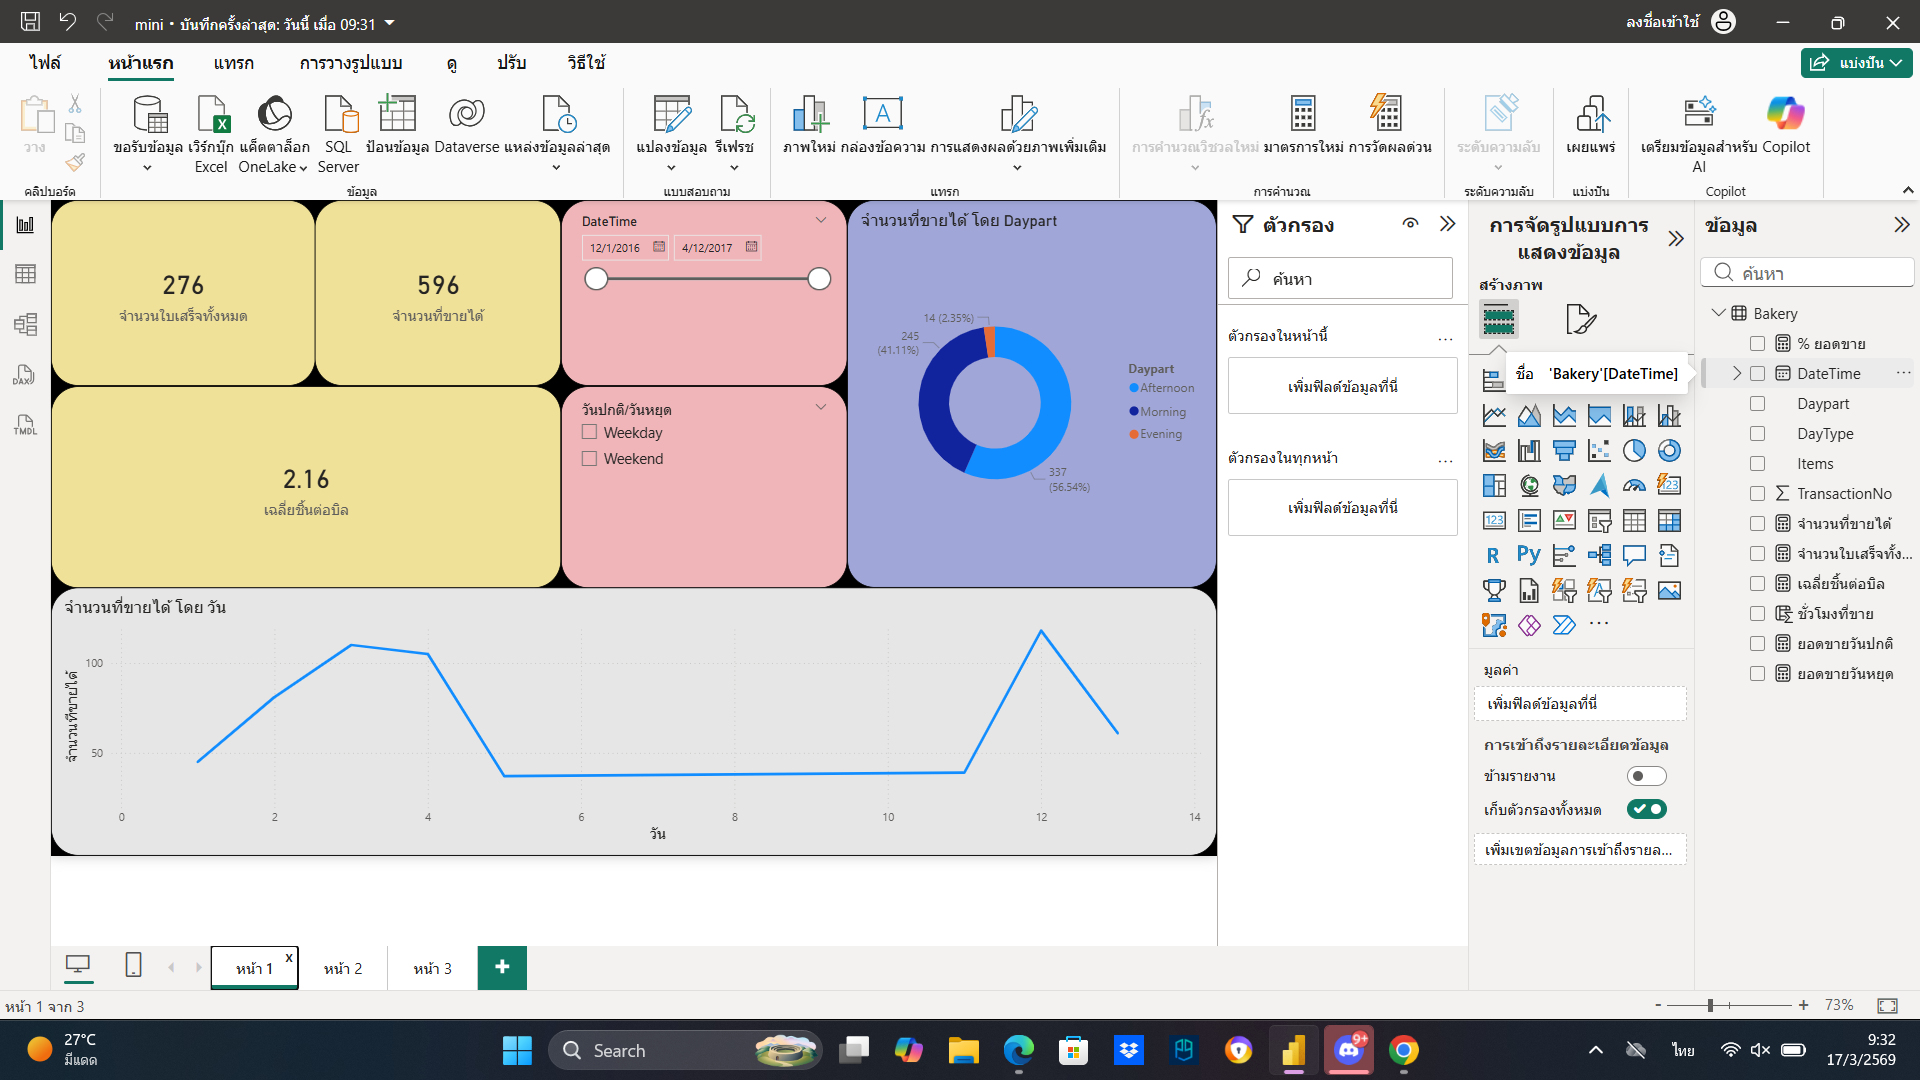

The dashboard page shown, as its layout file describes it:
{"tool":"powerbi","page":{"name":"หน้า 1","canvas":[1280,720],"ordinal":0},"visuals":[{"type":"slicer","fields":{"Values":["Bakery.DayType"]},"box":[560,204.3,314.3,221.4],"z":0},{"type":"slicer","fields":{"Values":["Bakery.DateTime"]},"box":[560,0,314.3,204.3],"z":1000},{"type":"card","fields":{"Values":["Bakery.จำนวนใบเสร็จทั้งหมด"]},"box":[0,0,290,204.3],"z":2000},{"type":"card","fields":{"Values":["Bakery.จำนวนที่ขายได้"]},"box":[290,0,270,204.3],"z":3000},{"type":"donutChart","fields":{"Category":["Bakery.Daypart"],"Y":["Bakery.จำนวนที่ขายได้"]},"box":[874.3,0,405.7,425.7],"z":4000},{"type":"card","fields":{"Values":["Bakery.เฉลี่ยชิ้นต่อบิล"]},"box":[0,204.3,560,221.4],"z":5000},{"type":"lineChart","fields":{"Category":["Bakery.DateTime.ตัวแปร.ลำดับชั้นวันที่.ปี","Bakery.DateTime.ตัวแปร.ลำดับชั้นวันที่.ไตรมาส","Bakery.DateTime.ตัวแปร.ลำดับชั้นวันที่.เดือน","Bakery.DateTime.ตัวแปร.ลำดับชั้นวันที่.วัน"],"Y":["Bakery.จำนวนที่ขายได้"]},"box":[0,425.7,1280,294.3],"z":6000}]}

Visuals, with their boxes on the page's 1280x720 design canvas (x1, y1, x2, y2). These are canvas units, not pixel positions in the 1920x1080 screenshot, which may show the page scaled, cropped or inside an application window:
slicer - Bakery.DayType: x1=560 y1=204 x2=874 y2=426
slicer - Bakery.DateTime: x1=560 y1=0 x2=874 y2=204
card - Bakery.จำนวนใบเสร็จทั้งหมด: x1=0 y1=0 x2=290 y2=204
card - Bakery.จำนวนที่ขายได้: x1=290 y1=0 x2=560 y2=204
donutChart - Bakery.Daypart x Bakery.จำนวนที่ขายได้: x1=874 y1=0 x2=1280 y2=426
card - Bakery.เฉลี่ยชิ้นต่อบิล: x1=0 y1=204 x2=560 y2=426
lineChart - Bakery.DateTime.ตัวแปร.ลำดับชั้นวันที่.ปี x Bakery.DateTime.ตัวแปร.ลำดับชั้นวันที่.ไตรมาส: x1=0 y1=426 x2=1280 y2=720
